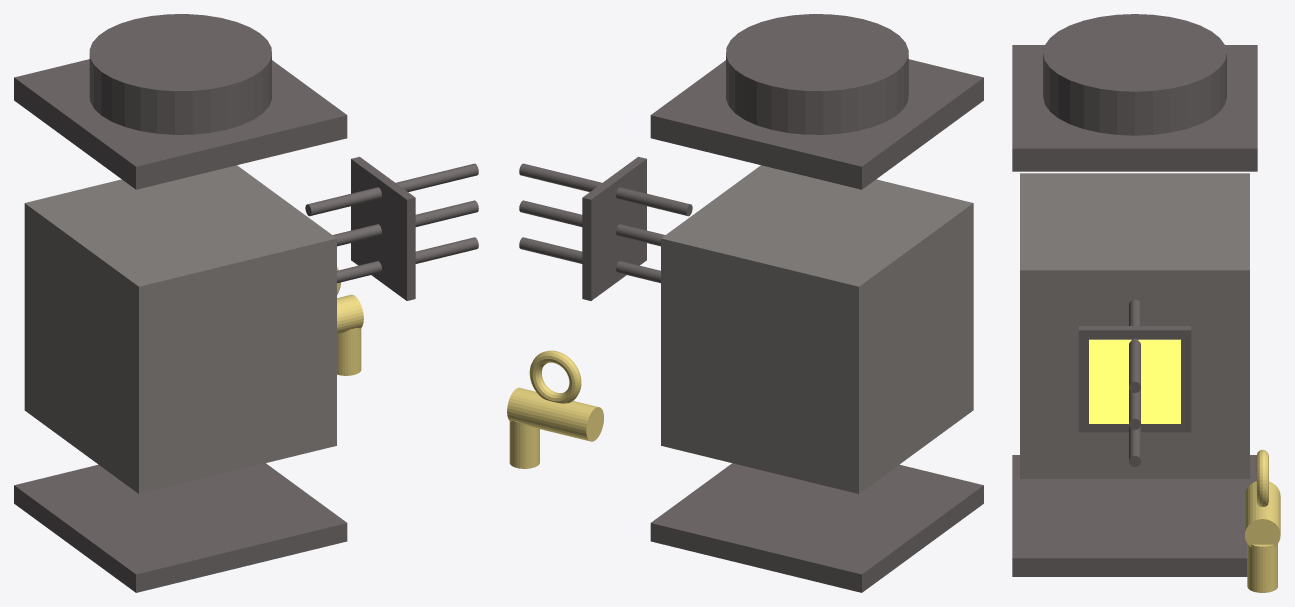
The model's file is smeltery_controller.glb.
The picture shows the model from 3 angles, left to right: view 1: azimuth 30°, elevation 25°; view 2: azimuth 150°, elevation 25°; view 3: azimuth 270°, elevation 25°; orthographic projection.
Visible parts, largest first — view 1: Cube, Cube.002, Cylinder.005, Cube.001, Cube.003, Cylinder.002, Cylinder.001, Cylinder, Cylinder.004, Cylinder.003; view 2: Cube, Cube.002, Cylinder.005, Cube.001, Cube.003, Cylinder.003, Cylinder.002, Torus, Cylinder.001, Cylinder, Cylinder.004; view 3: Cube, Cube.002, Cylinder.005, Cube.001, Cube.004, Cube.003, Cylinder.003, Cylinder.004, Cylinder.002, Torus, Cylinder, Cylinder.001.
Part boxes in pixels (<box>): Cube: <box>24,165,336,493</box>; Cube.002: <box>14,463,347,592</box>; Cylinder.005: <box>89,14,271,134</box>; Cube.001: <box>14,59,347,189</box>; Cube.003: <box>351,156,415,300</box>; Cylinder.002: <box>305,163,478,216</box>; Cylinder.001: <box>333,200,478,246</box>; Cylinder: <box>337,237,478,283</box>; Cylinder.004: <box>337,328,361,375</box>; Cylinder.003: <box>337,294,363,334</box>; Cube: <box>661,165,973,493</box>; Cube.002: <box>650,463,983,592</box>; Cylinder.005: <box>726,14,908,134</box>; Cube.001: <box>650,59,983,189</box>; Cube.003: <box>582,156,646,300</box>; Cylinder.003: <box>507,387,603,441</box>; Cylinder.002: <box>519,163,692,216</box>; Torus: <box>529,350,581,403</box>; Cylinder.001: <box>519,200,665,246</box>; Cylinder: <box>519,237,660,283</box>; Cylinder.004: <box>509,421,539,468</box>; Cube: <box>1020,173,1249,478</box>; Cube.002: <box>1012,455,1256,576</box>; Cylinder.005: <box>1043,14,1226,135</box>; Cube.001: <box>1012,45,1257,171</box>; Cube.004: <box>1089,339,1180,423</box>; Cube.003: <box>1078,326,1191,432</box>; Cylinder.003: <box>1245,481,1280,547</box>; Cylinder.004: <box>1247,544,1277,592</box>; Cylinder.002: <box>1129,299,1140,392</box>; Torus: <box>1256,449,1268,506</box>; Cylinder: <box>1129,426,1140,466</box>; Cylinder.001: <box>1129,389,1140,429</box>.
Bounding box in the file's own units: 0.91 × 1.02 × 0.525.
